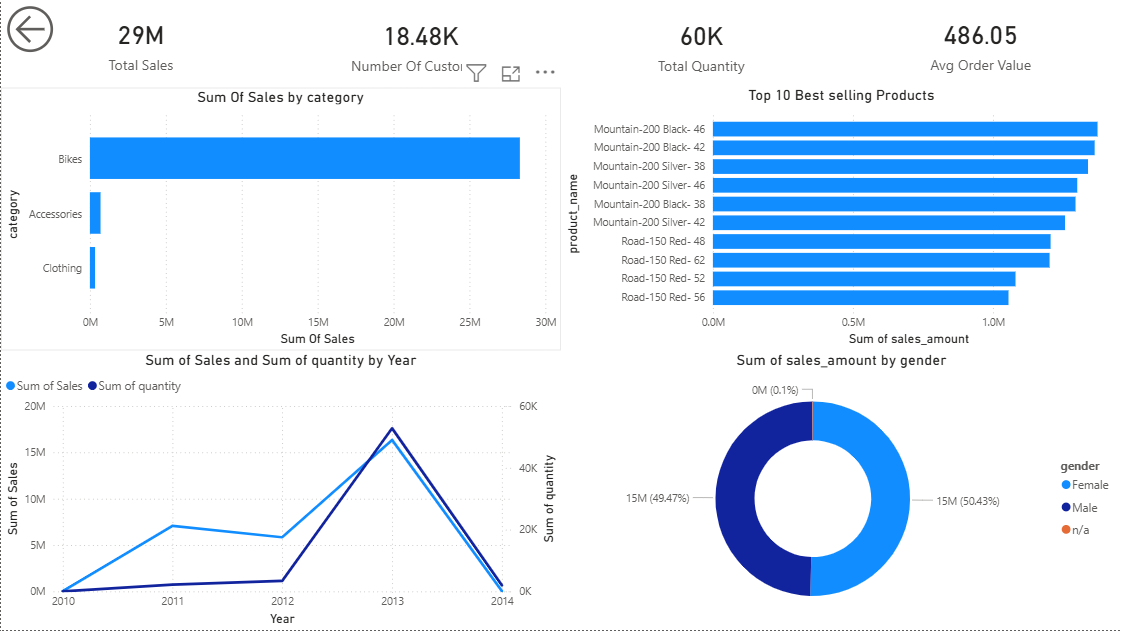

What the dashboard file says about the page in this screenshot:
{"tool":"powerbi","page":{"name":"KPI & Summary Visuals","canvas":[1280,720],"ordinal":1},"visuals":[{"type":"card","fields":{"Values":["Sum(gold fact_sales.sales_amount)"]},"box":[0,0,320,98.8],"z":0},{"type":"card","fields":{"Values":["Count(gold dim_customers.customer_id)"]},"box":[319.7,1.5,319.7,97.7],"z":1000},{"type":"card","fields":{"Values":["Sum(gold fact_sales.quantity)"]},"box":[639.4,0,321.2,100.6],"z":2000},{"type":"card","fields":{"Values":["gold fact_sales.Avg Order Value"]},"box":[960.6,0,319.7,99.2],"z":3000},{"type":"lineChart","fields":{"Category":["gold fact_sales.order_date.Variation.Date Hierarchy.Year"],"Y":["Sum(gold fact_sales.sales_amount)"],"Y2":["Sum(gold fact_sales.quantity)"]},"box":[0,401.1,639.4,318.2],"z":4000},{"type":"barChart","fields":{"Category":["gold dim_products.category"],"Y":["Sum(gold fact_sales.sales_amount)"]},"box":[0,100.6,639.4,300.5],"z":5000},{"type":"clusteredBarChart","title":"Top 10 Best selling Products","fields":{"Category":["gold dim_products.product_name"],"Y":["Sum(gold fact_sales.sales_amount)"]},"box":[639.4,99.2,640.9,301.9],"z":6000},{"type":"donutChart","fields":{"Category":["gold dim_customers.gender"],"Y":["Sum(gold fact_sales.sales_amount)"]},"box":[639.4,401.1,640.9,318.2],"z":7000},{"type":"actionButton","box":[0,0,100.6,66.6],"z":8000}]}

Visuals, with their boxes in screenshot pixels (x1, y1, x2, y2), scaled from the page's 1280x720 canvas onto the 1121x631 screenshot:
card - Sum(gold fact_sales.sales_amount): rect(0, 0, 280, 87)
card - Count(gold dim_customers.customer_id): rect(280, 1, 560, 87)
card - Sum(gold fact_sales.quantity): rect(560, 0, 841, 88)
card - gold fact_sales.Avg Order Value: rect(841, 0, 1120, 87)
lineChart - gold fact_sales.order_date.Variation.Date Hierarchy.Year x Sum(gold fact_sales.sales_amount): rect(0, 352, 560, 630)
barChart - gold dim_products.category x Sum(gold fact_sales.sales_amount): rect(0, 88, 560, 352)
"Top 10 Best selling Products" clusteredBarChart: rect(560, 87, 1120, 352)
donutChart - gold dim_customers.gender x Sum(gold fact_sales.sales_amount): rect(560, 352, 1120, 630)
actionButton: rect(0, 0, 88, 58)
